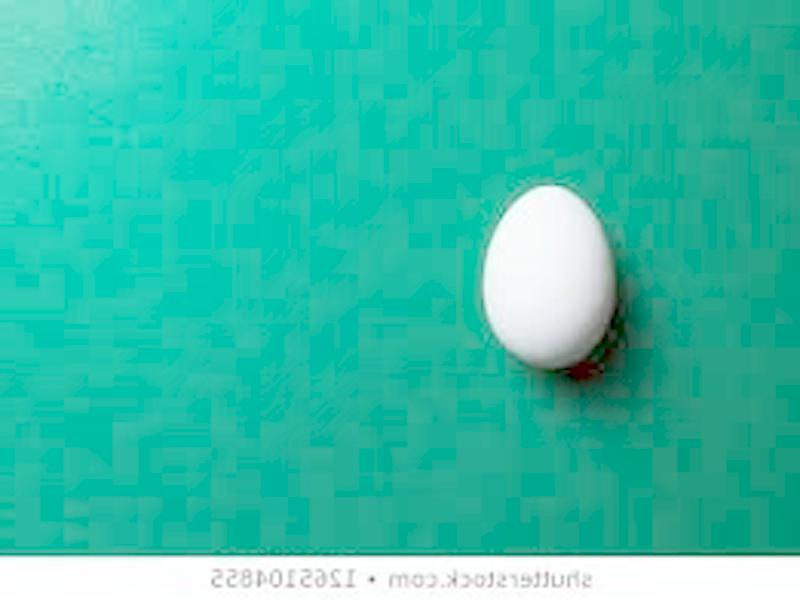Eggs: (477, 187, 609, 367)
